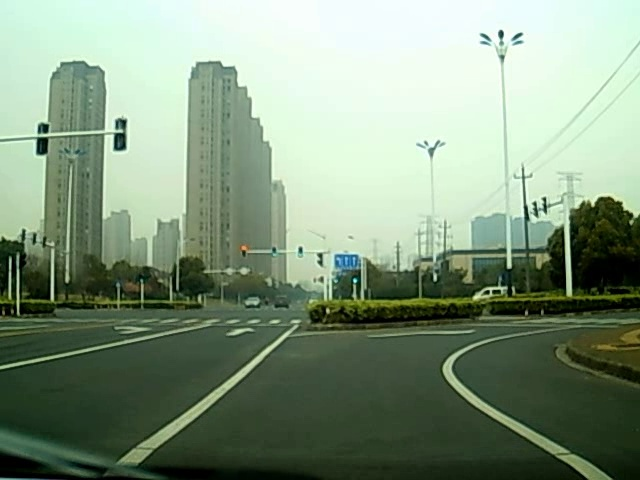Traffic_Light_go: (271, 246, 278, 258), (297, 244, 303, 258)
Traffic_Light_stop: (240, 244, 247, 257)
